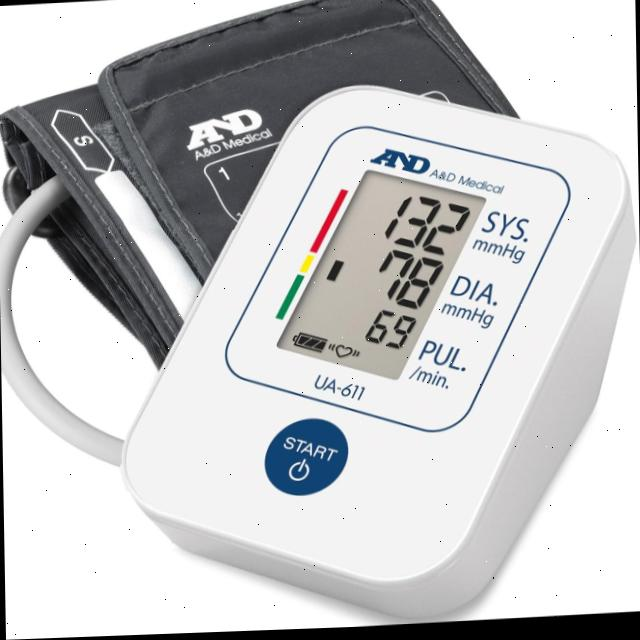dia: (362, 244, 454, 326)
pul: (350, 298, 424, 363)
ssd: (276, 149, 486, 403)
sys: (371, 187, 475, 268)
